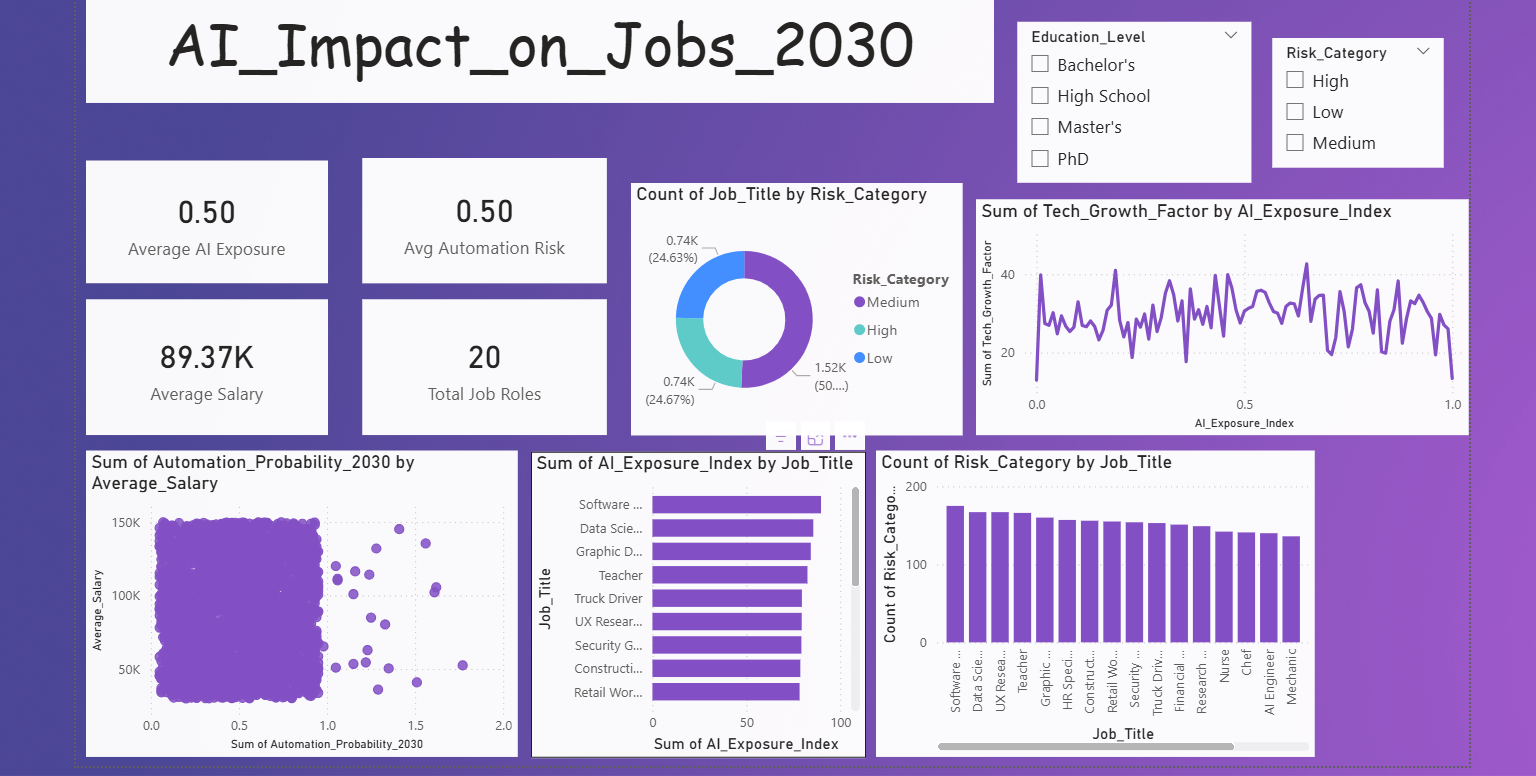

This screenshot's page, from the dashboard's own definition file:
{"tool":"powerbi","page":{"name":"Page 1","canvas":[1280,720],"ordinal":0},"visuals":[{"type":"card","fields":{"Values":["AI_Impact_on_Jobs_2030.Average AI Exposure"]},"box":[9.6,163.3,222.3,112.5],"z":0},{"type":"card","fields":{"Values":["AI_Impact_on_Jobs_2030.Average Salary"]},"box":[9.6,290.9,222.3,124.9],"z":1000},{"type":"card","fields":{"Values":["AI_Impact_on_Jobs_2030.Avg Automation Risk"]},"box":[263.5,160.5,225,115.3],"z":2000},{"type":"card","fields":{"Values":["AI_Impact_on_Jobs_2030.Total Job Roles"]},"box":[263.5,290.9,225,124.9],"z":3000},{"type":"clusteredBarChart","fields":{"Y":["Sum(AI_Impact_on_Jobs_2030.AI_Exposure_Index)"],"Category":["AI_Impact_on_Jobs_2030.Job_Title"]},"box":[418.5,430.9,307.4,281.3],"z":4000},{"type":"lineClusteredColumnComboChart","fields":{"Category":["AI_Impact_on_Jobs_2030.Job_Title"],"Y":["CountNonNull(AI_Impact_on_Jobs_2030.Risk_Category)"]},"box":[735.5,429.5,403.4,281.3],"z":5000},{"type":"donutChart","fields":{"Category":["AI_Impact_on_Jobs_2030.Risk_Category"],"Y":["CountNonNull(AI_Impact_on_Jobs_2030.Job_Title)"]},"box":[510.5,183.9,304.6,231.9],"z":6000},{"type":"lineChart","fields":{"Category":["AI_Impact_on_Jobs_2030.AI_Exposure_Index"],"Y":["Sum(AI_Impact_on_Jobs_2030.Tech_Growth_Factor)"]},"box":[827.4,199,452.8,216.8],"z":7000},{"type":"scatterChart","fields":{"X":["Sum(AI_Impact_on_Jobs_2030.Automation_Probability_2030)"],"Y":["AI_Impact_on_Jobs_2030.Average_Salary"]},"box":[9.6,429.5,396.6,281.3],"z":8000},{"type":"slicer","fields":{"Values":["AI_Impact_on_Jobs_2030.Education_Level"]},"box":[864.5,35.7,215.4,148.2],"z":9000},{"type":"slicer","fields":{"Values":["AI_Impact_on_Jobs_2030.Risk_Category"]},"box":[1099.1,50.8,157.8,119.4],"z":10000},{"type":"textbox","box":[9.6,12.3,834.3,97.4],"z":11000}]}

Visuals, with their boxes in screenshot pixels (x1, y1, x2, y2):
card - AI_Impact_on_Jobs_2030.Average AI Exposure: l=79, t=152, r=324, b=276
card - AI_Impact_on_Jobs_2030.Average Salary: l=79, t=293, r=324, b=430
card - AI_Impact_on_Jobs_2030.Avg Automation Risk: l=358, t=149, r=606, b=276
card - AI_Impact_on_Jobs_2030.Total Job Roles: l=358, t=293, r=606, b=430
clusteredBarChart - Sum(AI_Impact_on_Jobs_2030.AI_Exposure_Index) x AI_Impact_on_Jobs_2030.Job_Title: l=529, t=447, r=868, b=757
lineClusteredColumnComboChart - AI_Impact_on_Jobs_2030.Job_Title x CountNonNull(AI_Impact_on_Jobs_2030.Risk_Category): l=878, t=445, r=1323, b=755
donutChart - AI_Impact_on_Jobs_2030.Risk_Category x CountNonNull(AI_Impact_on_Jobs_2030.Job_Title): l=631, t=175, r=966, b=430
lineChart - AI_Impact_on_Jobs_2030.AI_Exposure_Index x Sum(AI_Impact_on_Jobs_2030.Tech_Growth_Factor): l=980, t=191, r=1479, b=430
scatterChart - Sum(AI_Impact_on_Jobs_2030.Automation_Probability_2030) x AI_Impact_on_Jobs_2030.Average_Salary: l=79, t=445, r=516, b=755
slicer - AI_Impact_on_Jobs_2030.Education_Level: l=1021, t=11, r=1258, b=175
slicer - AI_Impact_on_Jobs_2030.Risk_Category: l=1279, t=28, r=1453, b=160
textbox: l=79, t=0, r=998, b=93
